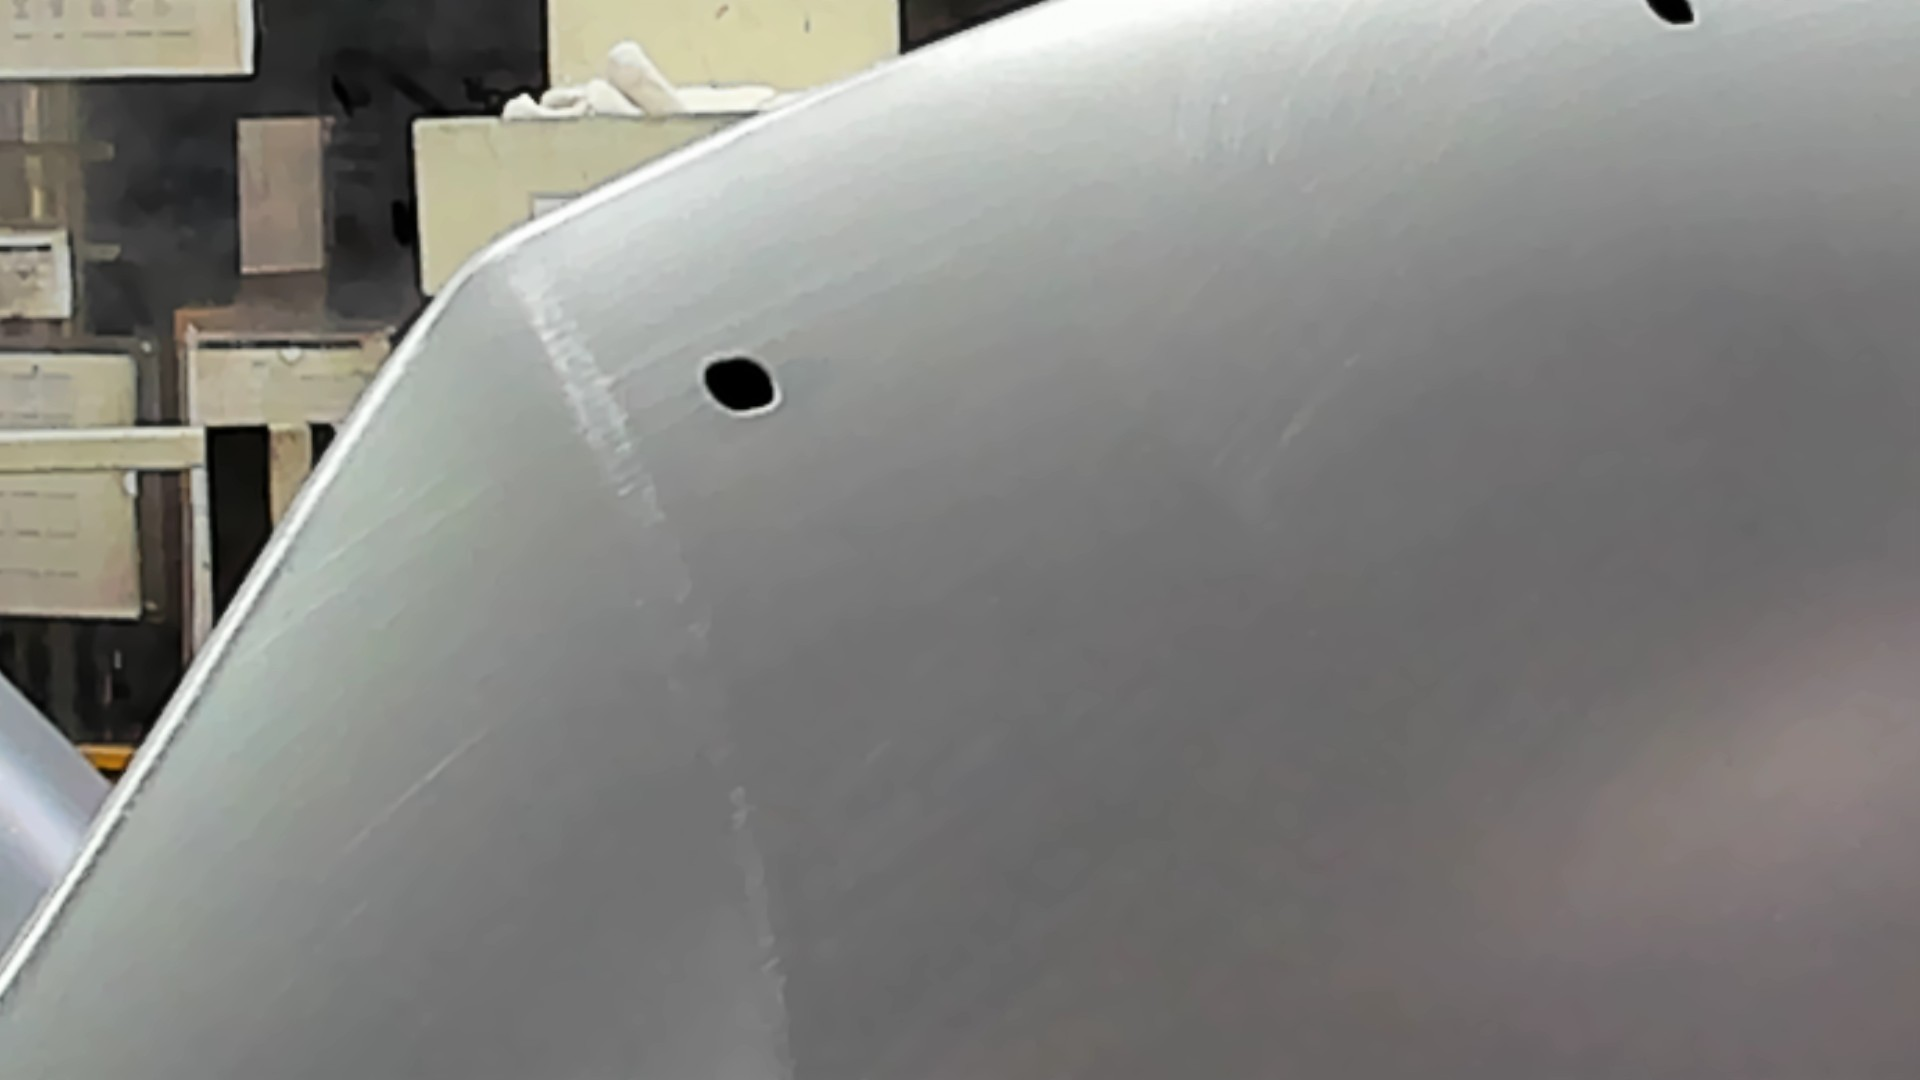amorfo: (695, 345, 786, 417), (1639, 1, 1704, 33)
